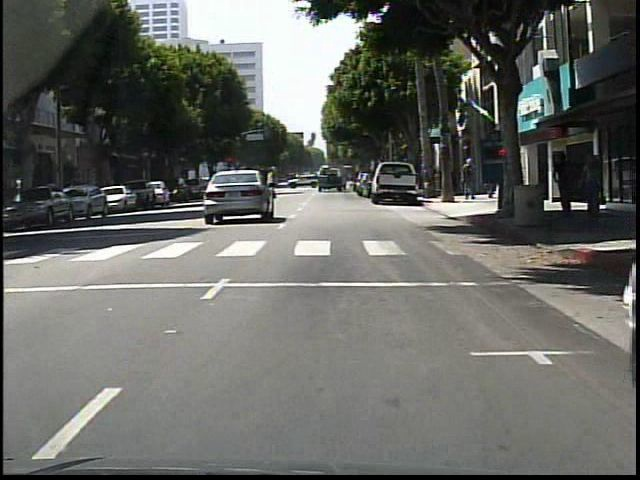person: (551, 151, 577, 215), (580, 151, 604, 218), (463, 155, 480, 199), (272, 165, 273, 201)
